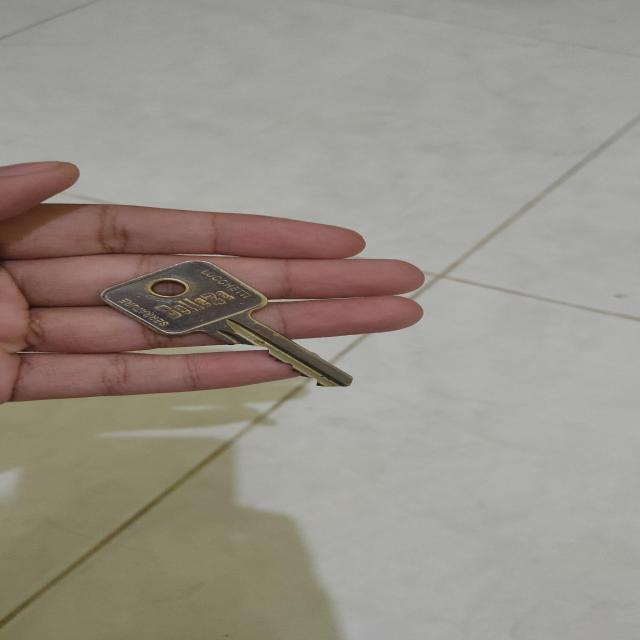kunci_kos: (85, 253, 365, 389)
